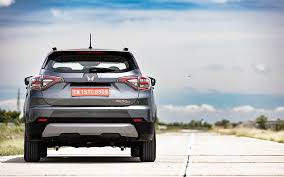XUV 400: (20, 32, 159, 164)
